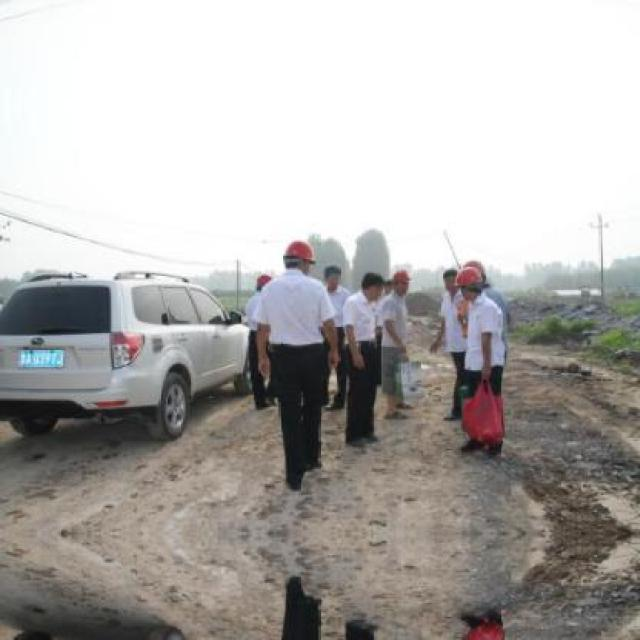helmet: (280, 232, 318, 268), (449, 267, 488, 299), (248, 261, 280, 296), (386, 264, 414, 293), (462, 259, 489, 285)
